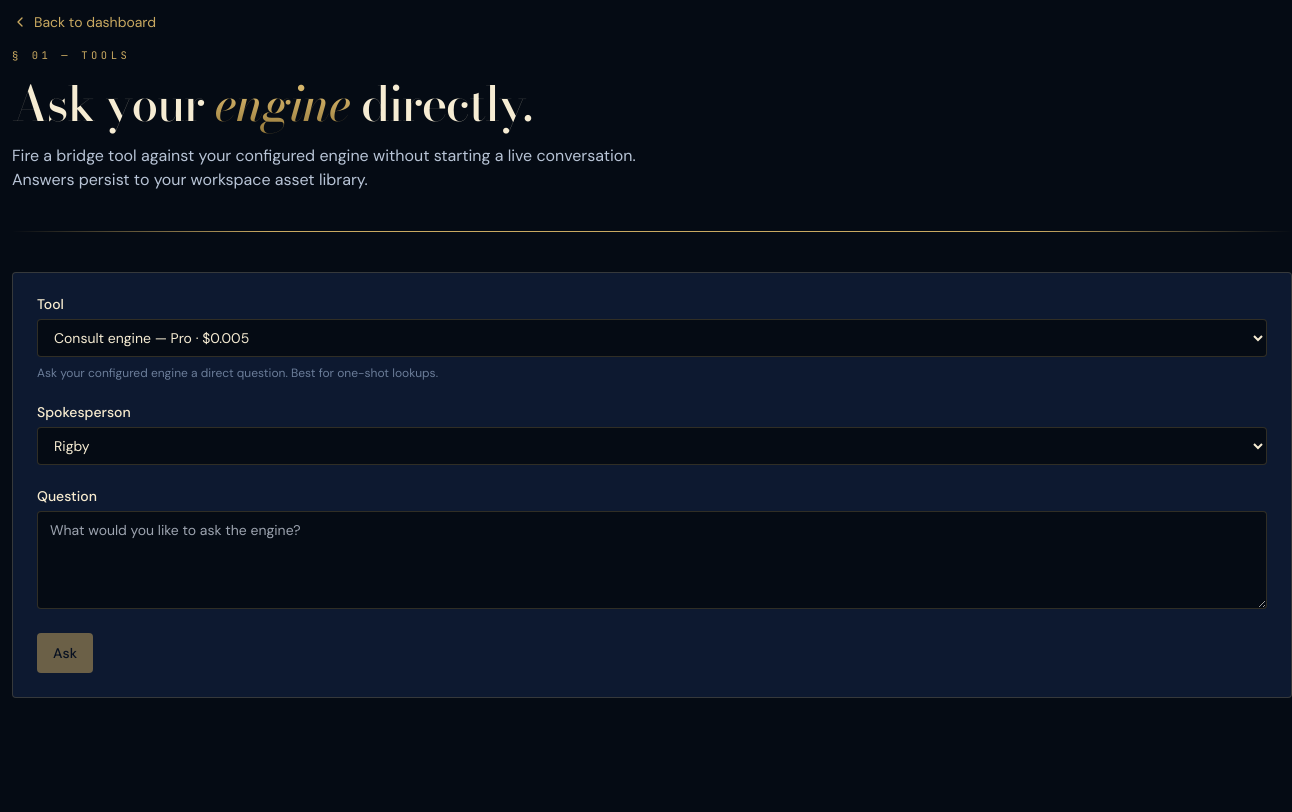
C5.1 — submit gating › enables the submit button once a question is typed
Type "hello" into the text box with test id "tools-question" at [652, 560], box [37,511,1267,609]
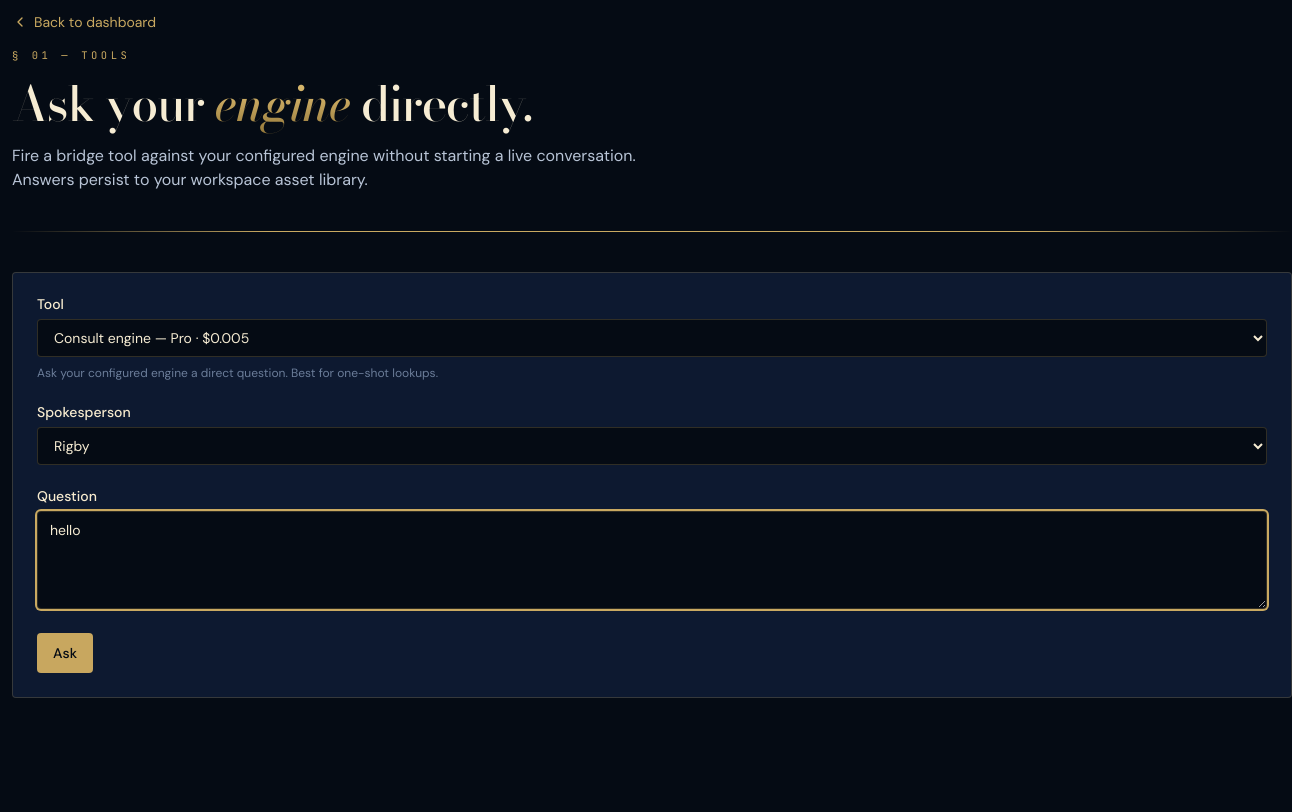
Result: the button with test id "tools-submit" is enabled at [37,633,93,673]
